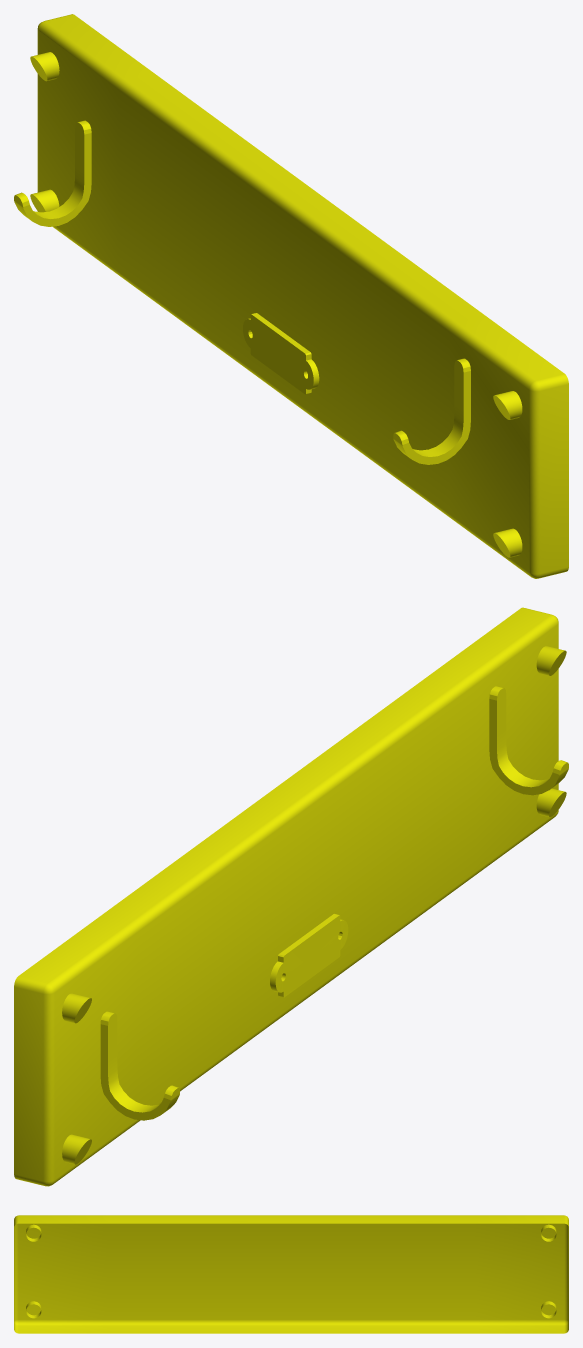
File: TempleIm_JC_Team6_Mesh_WallMount.fbx
The picture shows the model from 3 angles, top to bottom: view 1: azimuth 30°, elevation 25°; view 2: azimuth 150°, elevation 25°; view 3: azimuth 270°, elevation 25°; orthographic projection. The views are drawn at different scales.
Parts seen in each view (by area): view 1: S_WallMount, S_Plaque, S_Hook2, S_Hook1; view 2: S_WallMount, S_Plaque, S_Hook2, S_Hook1; view 3: S_WallMount.
Boxes of the visible parts, x1,y1,x2,y2 form: S_WallMount: (30, 14, 568, 578); S_Plaque: (243, 313, 319, 394); S_Hook2: (393, 358, 470, 464); S_Hook1: (14, 120, 91, 226); S_WallMount: (14, 607, 566, 1186); S_Plaque: (270, 914, 348, 997); S_Hook2: (489, 686, 568, 795); S_Hook1: (100, 1011, 179, 1120); S_WallMount: (14, 1215, 568, 1333).
Size of the model in its own units: 8.79 by 71.93 by 15.71.
